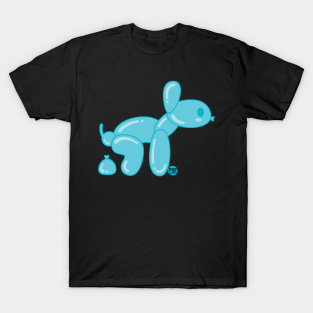design: (96, 78, 217, 178)
